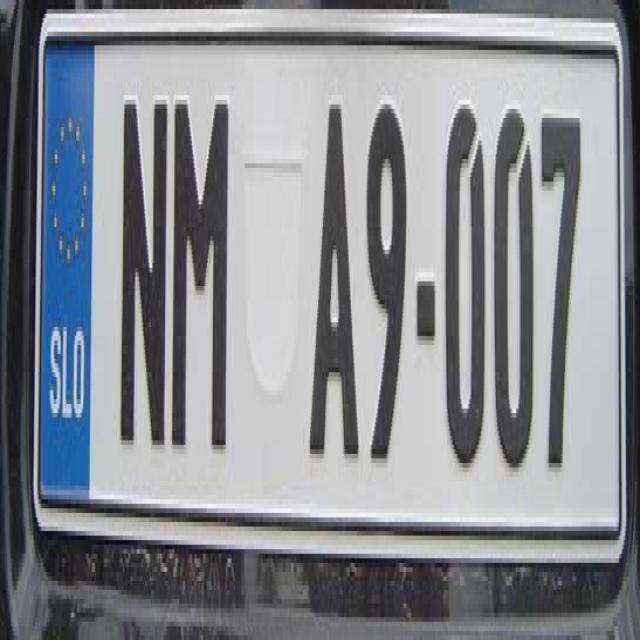EU: (32, 27, 623, 533)
Slovenie: (44, 40, 92, 477)
